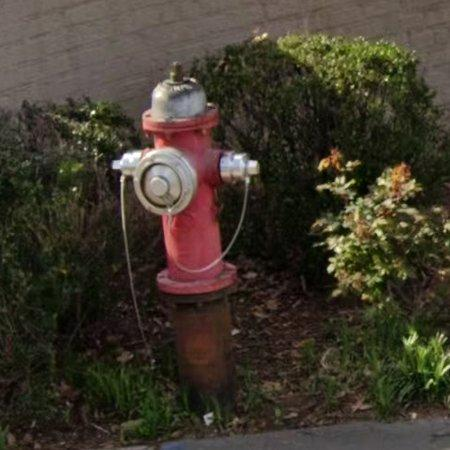a fire hydrant: (113, 64, 259, 414)
